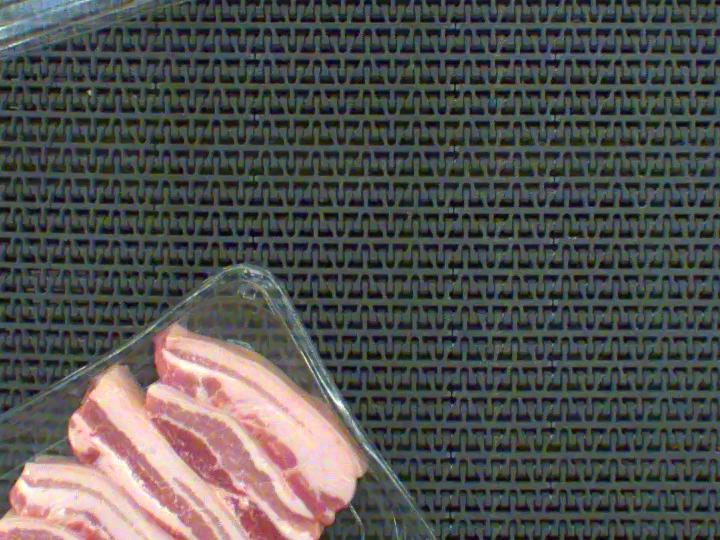packaging-error: (50, 322, 203, 417), (305, 372, 390, 485)
